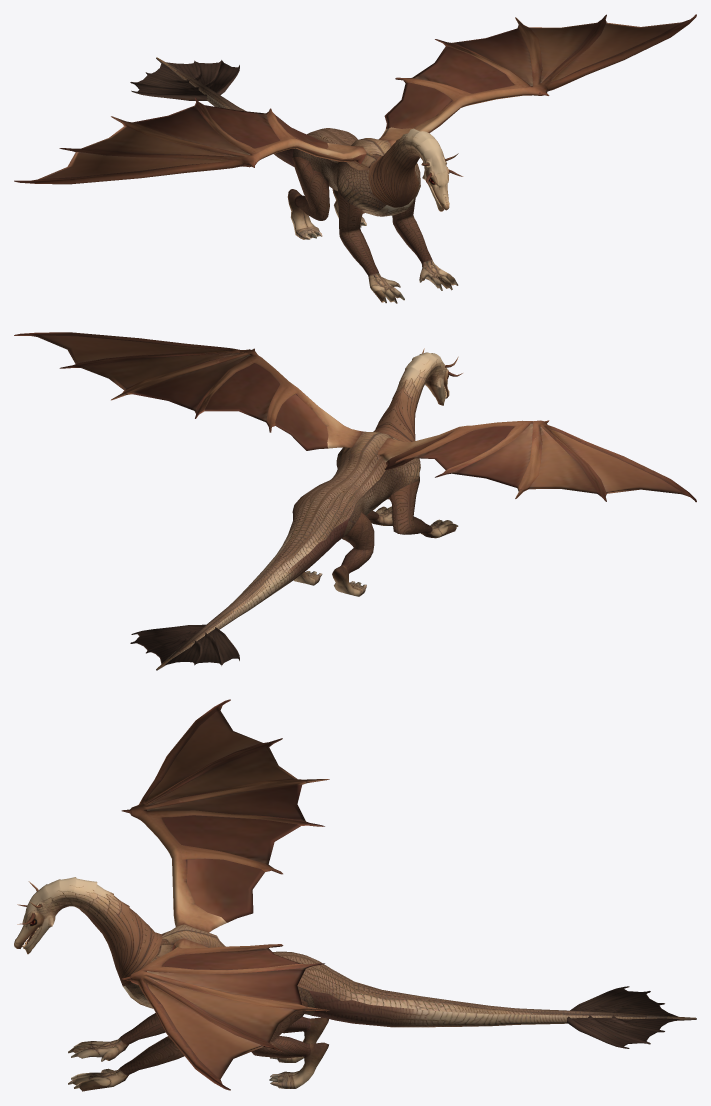
3 renders of one model, top to bottom at view 1: azimuth 30°, elevation 25°; view 2: azimuth 150°, elevation 25°; view 3: azimuth 270°, elevation 25°, orthographic. The views are drawn at different scales.
Parts seen in each view (by area): view 1: ae0831702eac462a9969ff4f8bd57710; view 2: ae0831702eac462a9969ff4f8bd57710; view 3: ae0831702eac462a9969ff4f8bd57710.
Boxes of the visible parts, <box> form: ae0831702eac462a9969ff4f8bd57710: <box>14,14,696,303</box>; ae0831702eac462a9969ff4f8bd57710: <box>14,332,696,670</box>; ae0831702eac462a9969ff4f8bd57710: <box>14,699,696,1091</box>.
Size of the model in its own units: 1 by 0.2302 by 0.7393.
Materials: 1 (1 with a texture image).
